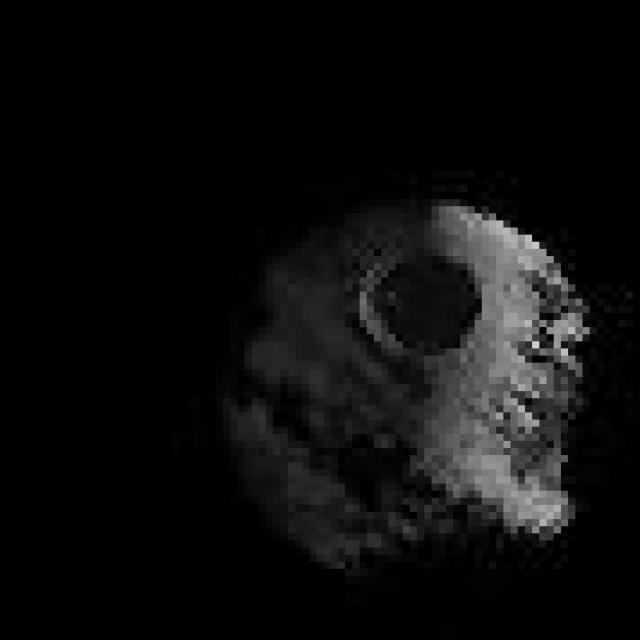Death Star: (209, 178, 604, 583)
